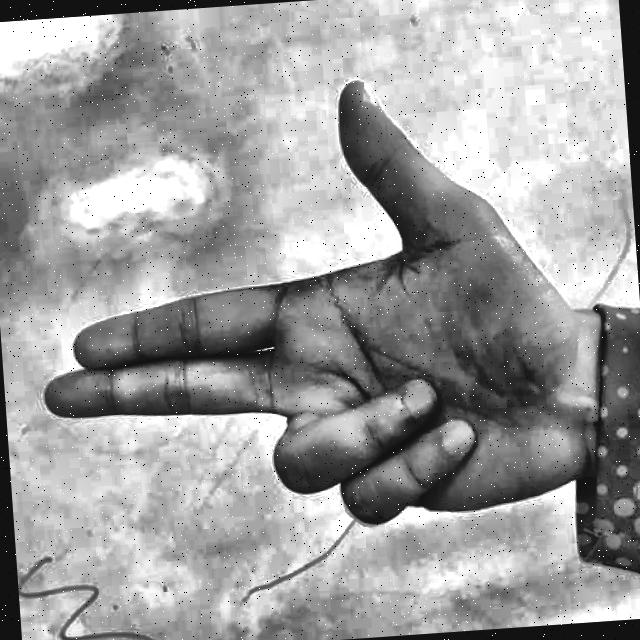Jha: (9, 32, 630, 635)
